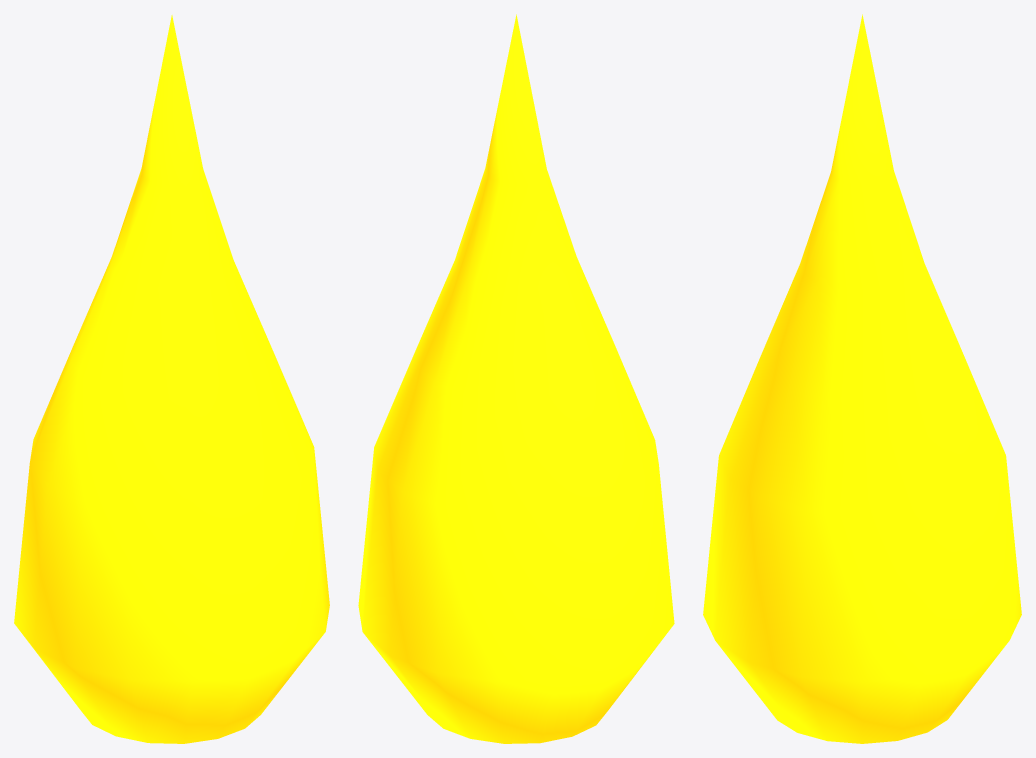
Rendered from fueguito.glb.
3 views of the same model, side by side, from view 1: azimuth 30°, elevation 25°; view 2: azimuth 150°, elevation 25°; view 3: azimuth 270°, elevation 25° (orthographic).
Parts seen in each view (by area): view 1: fireSmall_e; view 2: fireSmall_e; view 3: fireSmall_e.
Boxes of the visible parts, box(x1,y1,x2,y2) form: fireSmall_e: box(14, 15, 329, 743); fireSmall_e: box(358, 14, 674, 743); fireSmall_e: box(703, 14, 1021, 743).
Bounding box in the file's own units: 0.3783 × 0.9464 × 0.3783.
